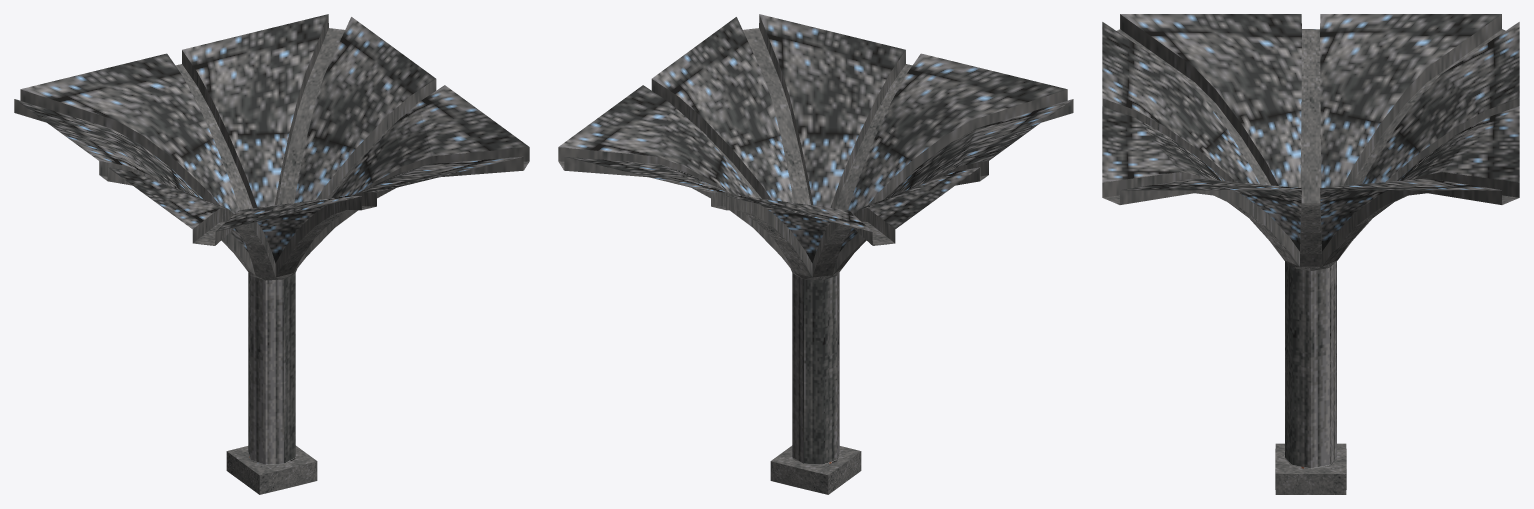
The model's file is SM_Dungeon_Pillar_Arch_Large.fbx.
3 views of the same model, side by side, from view 1: azimuth 30°, elevation 25°; view 2: azimuth 150°, elevation 25°; view 3: azimuth 270°, elevation 25° (orthographic). The views are drawn at different scales.
Parts seen in each view (by area): view 1: SM_Dungeon_Pillar_Arch_Large; view 2: SM_Dungeon_Pillar_Arch_Large; view 3: SM_Dungeon_Pillar_Arch_Large.
Boxes of the visible parts, bbox=[...] form: SM_Dungeon_Pillar_Arch_Large: bbox=[14, 14, 529, 494]; SM_Dungeon_Pillar_Arch_Large: bbox=[558, 14, 1073, 494]; SM_Dungeon_Pillar_Arch_Large: bbox=[1102, 14, 1519, 494].
Bounding box in the file's own units: 400 × 400 × 401.
